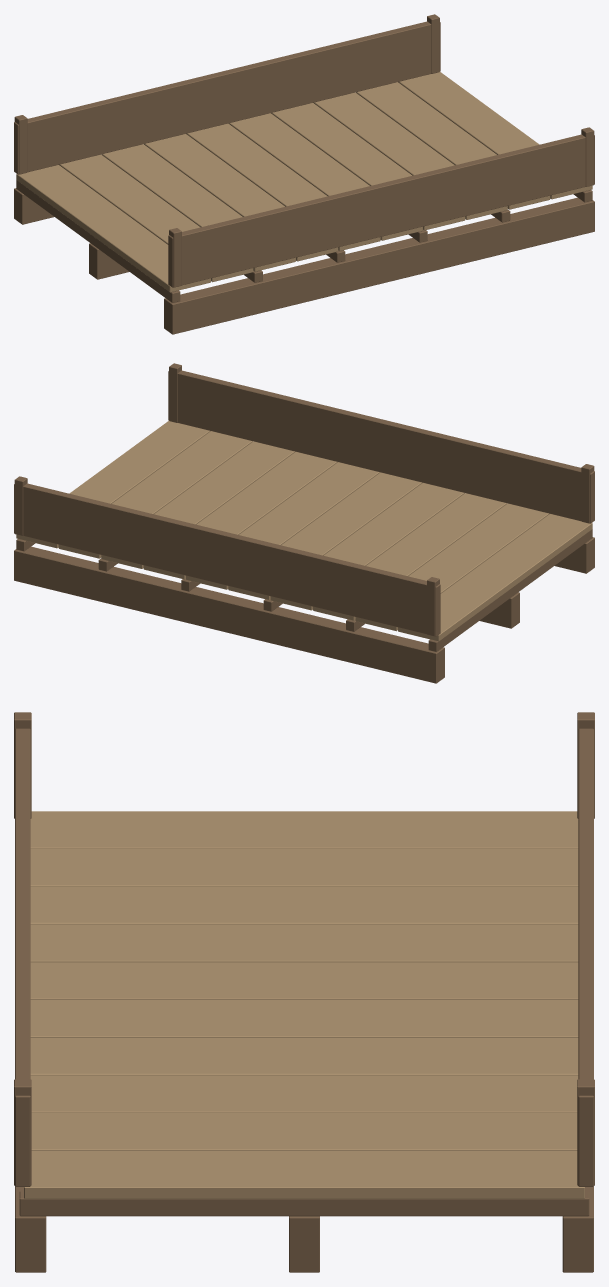
The model's file is bridge_timber_mid.glb.
3 views of the same model, one above another, from view 1: azimuth 30°, elevation 25°; view 2: azimuth 150°, elevation 25°; view 3: azimuth 270°, elevation 25° (orthographic). The views are drawn at different scales.
Parts seen in each view (by area): view 1: bridge_timber_mid; view 2: bridge_timber_mid; view 3: bridge_timber_mid.
Part boxes in pixels (x1,y1,x2,y2): bridge_timber_mid: (14, 14, 594, 334); bridge_timber_mid: (14, 363, 594, 683); bridge_timber_mid: (14, 712, 594, 1272).
Size of the model in its own units: 8 by 1.84 by 5.22.
